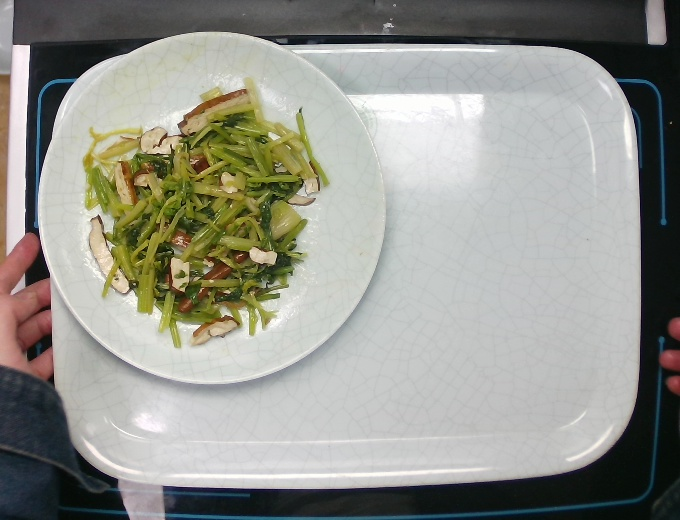JYsf-Da_Yuan_Pan: (36, 29, 390, 386)
